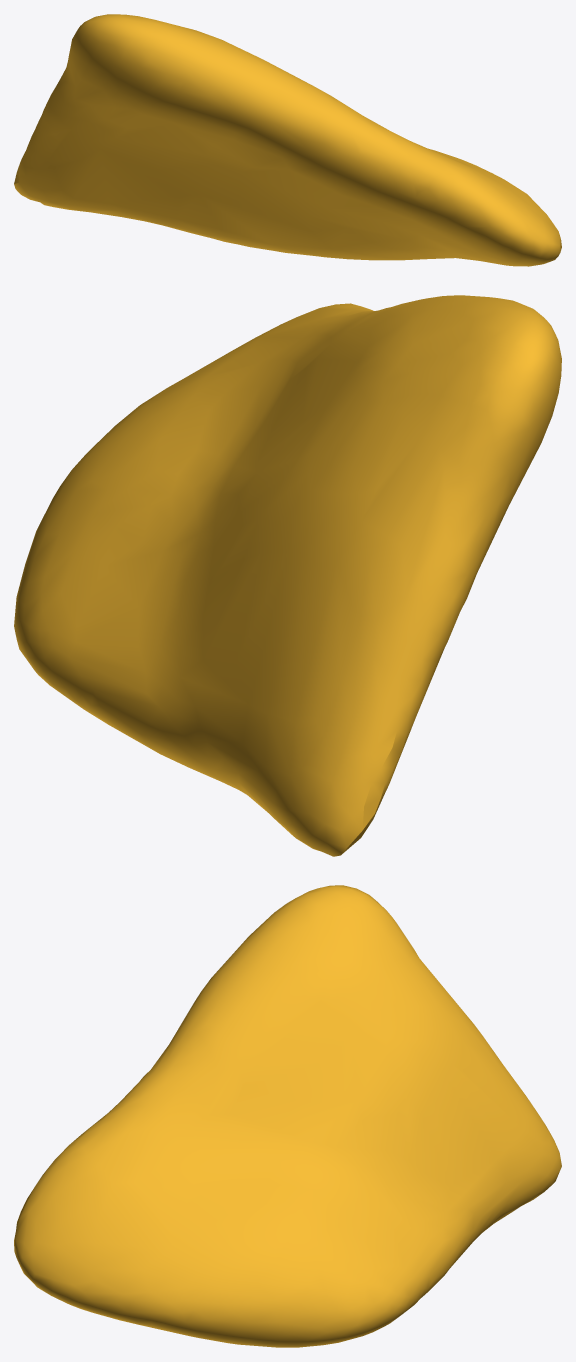
Rendered from nervoso-wing-of-central-lobule-l.glb.
3 renders of one model, top to bottom at view 1: azimuth 30°, elevation 25°; view 2: azimuth 150°, elevation 25°; view 3: azimuth 270°, elevation 25°, orthographic. The views are drawn at different scales.
Parts seen in each view (by area): view 1: Wing of central lobule.l; view 2: Wing of central lobule.l; view 3: Wing of central lobule.l.
Part boxes in pixels (x1,y1,x2,y2): Wing of central lobule.l: [14, 14, 561, 266]; Wing of central lobule.l: [14, 295, 561, 856]; Wing of central lobule.l: [14, 885, 561, 1347].
Size of the model in its own units: 0.0173 by 0.0129 by 0.0206.
